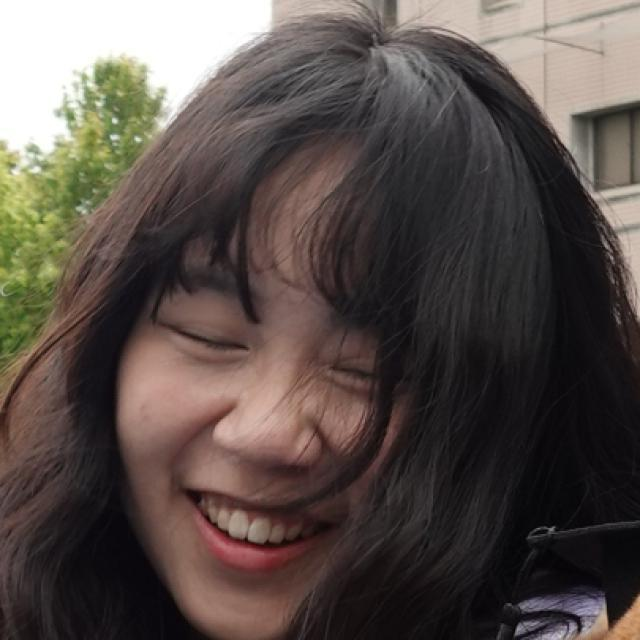close: (134, 242, 271, 386)
